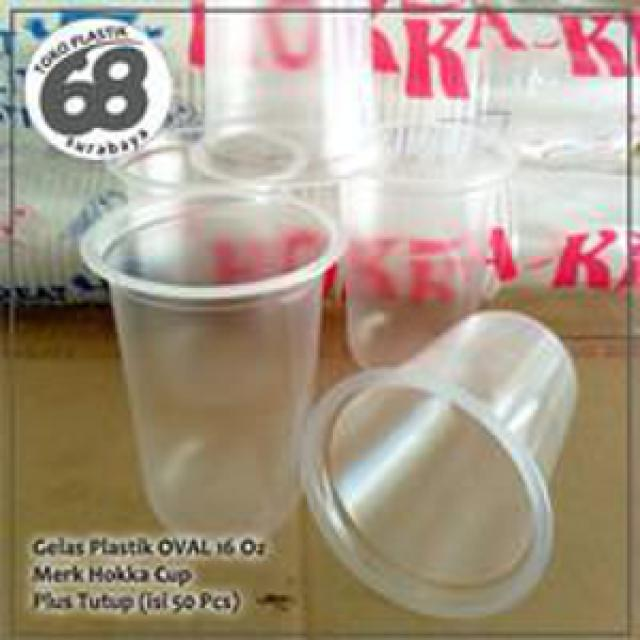plastic cup: (70, 185, 348, 550), (294, 303, 582, 625), (335, 117, 516, 380), (186, 11, 386, 196)
